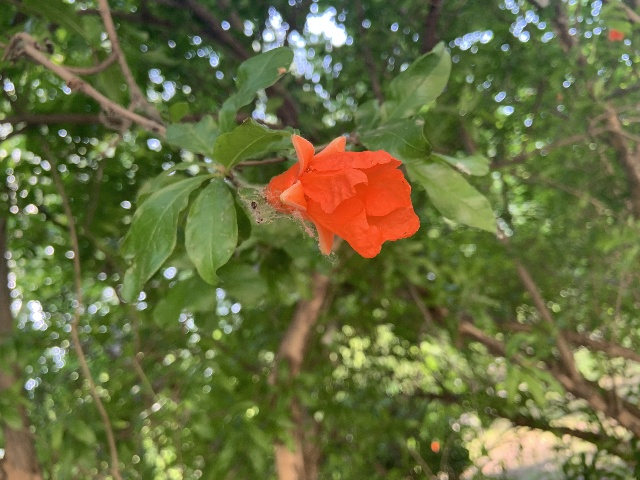flower: (266, 133, 419, 259)
